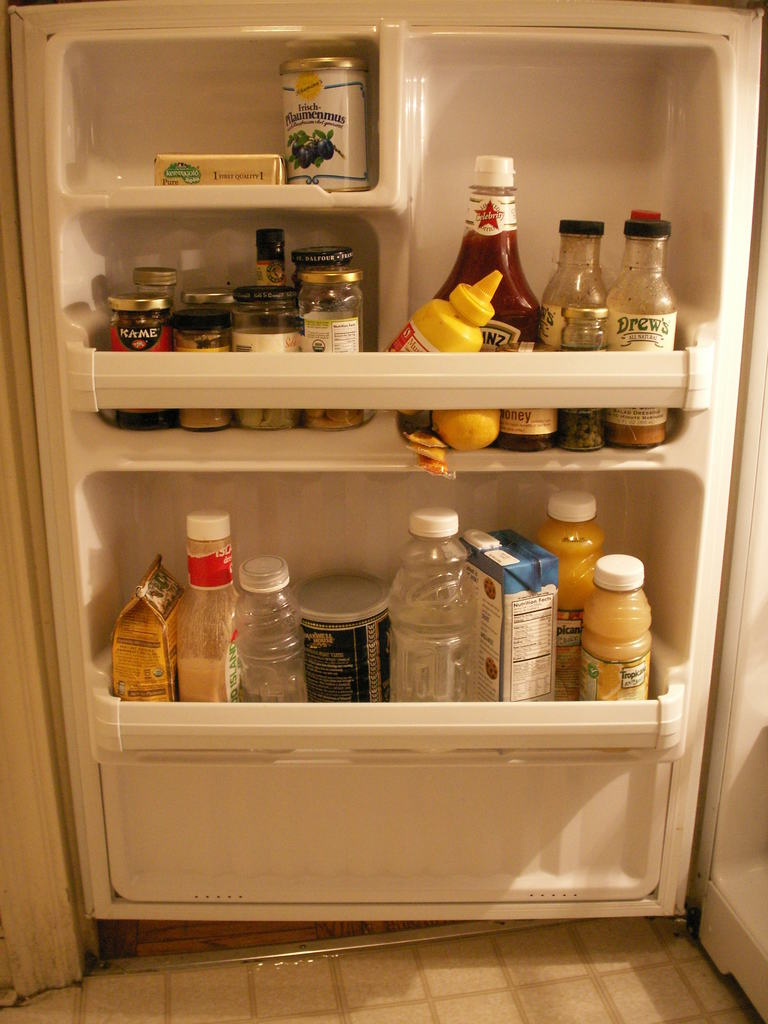refrigerator door: (61, 74, 676, 903)
